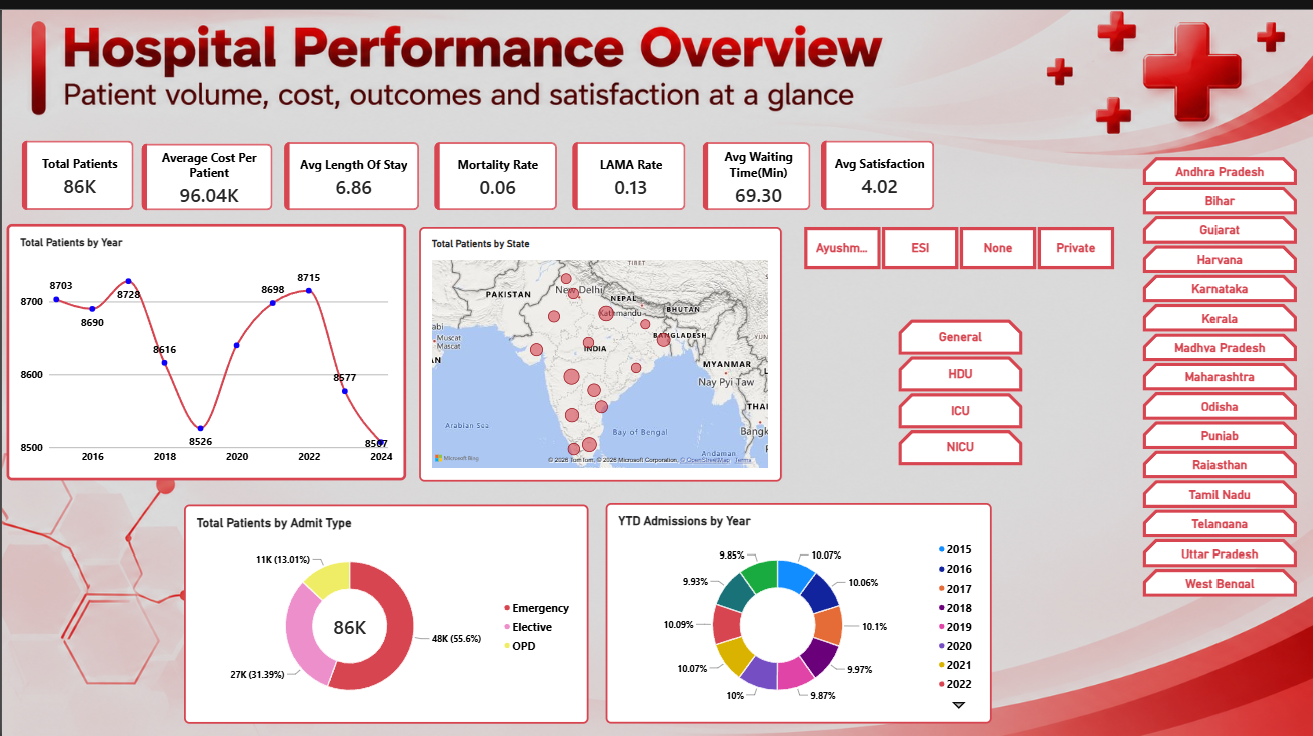

What the dashboard file says about the page in this screenshot:
{"tool":"powerbi","page":{"name":" Overview","canvas":[1920,1080],"ordinal":0},"visuals":[{"type":"cardVisual","fields":{"Data":["HEALTHCARE.Total Patients"]},"box":[28,200,164,102],"z":0},{"type":"cardVisual","fields":{"Data":["HEALTHCARE.Average Cost Per Patient"]},"box":[204,204,192,98],"z":1000},{"type":"cardVisual","fields":{"Data":["HEALTHCARE.Avg Length Of Stay"]},"box":[414,202,198,100],"z":2000},{"type":"cardVisual","fields":{"Data":["HEALTHCARE.Mortality Rate"]},"box":[634,202,180,100],"z":3000},{"type":"cardVisual","fields":{"Data":["HEALTHCARE.LAMA Rate"]},"box":[836,202,166,100],"z":4000},{"type":"cardVisual","fields":{"Data":["HEALTHCARE.Avg Waiting Time"]},"box":[1026,202,158,100],"z":5000},{"type":"cardVisual","fields":{"Data":["HEALTHCARE.Avg Satisfaction"]},"box":[1200,200,166,102],"z":6000},{"type":"lineChart","fields":{"Category":["Date Table.Date.Variation.Date Hierarchy.Year","Date Table.Date.Variation.Date Hierarchy.Quarter","Date Table.Date.Variation.Date Hierarchy.Month","Date Table.Date.Variation.Date Hierarchy.Day"],"Y":["HEALTHCARE.Total Patients"]},"box":[7.1,322.9,585.7,375.7],"z":7000},{"type":"donutChart","fields":{"Category":["HEALTHCARE.Admit Type"],"Y":["HEALTHCARE.Total Patients"]},"box":[267.5,732.5,592.5,320],"z":8000},{"type":"pieChart","fields":{"Series":["Date Table.Year"],"Y":["HEALTHCARE.YTD Admissions"]},"box":[884,730,566,322],"z":9000},{"type":"map","fields":{"Category":["HEALTHCARE.State"],"Size":["HEALTHCARE.Total Patients"]},"box":[611.4,327.1,531.4,372.9],"z":10000},{"type":"advancedSlicerVisual","fields":{"Values":["HEALTHCARE.State"]},"box":[1670,205,225,695],"z":11000},{"type":"advancedSlicerVisual","fields":{"Values":["HEALTHCARE.Ward Type"]},"box":[1312.9,442.9,182.5,255],"z":12000},{"type":"advancedSlicerVisual","fields":{"Values":["HEALTHCARE.Insurance Type"]},"box":[1155.7,327.1,497.1,62.9],"z":13000}]}

Visuals, with their boxes in screenshot pixels (x1, y1, x2, y2), scaled from the page's 1920x1080 canvas onto the 1313x736 screenshot:
cardVisual - HEALTHCARE.Total Patients: bbox=(19, 136, 131, 206)
cardVisual - HEALTHCARE.Average Cost Per Patient: bbox=(140, 139, 271, 206)
cardVisual - HEALTHCARE.Avg Length Of Stay: bbox=(283, 138, 419, 206)
cardVisual - HEALTHCARE.Mortality Rate: bbox=(434, 138, 557, 206)
cardVisual - HEALTHCARE.LAMA Rate: bbox=(572, 138, 685, 206)
cardVisual - HEALTHCARE.Avg Waiting Time: bbox=(702, 138, 810, 206)
cardVisual - HEALTHCARE.Avg Satisfaction: bbox=(821, 136, 934, 206)
lineChart - Date Table.Date.Variation.Date Hierarchy.Year x Date Table.Date.Variation.Date Hierarchy.Quarter: bbox=(5, 220, 405, 476)
donutChart - HEALTHCARE.Admit Type x HEALTHCARE.Total Patients: bbox=(183, 499, 588, 717)
pieChart - Date Table.Year x HEALTHCARE.YTD Admissions: bbox=(605, 497, 992, 717)
map - HEALTHCARE.State x HEALTHCARE.Total Patients: bbox=(418, 223, 782, 477)
advancedSlicerVisual - HEALTHCARE.State: bbox=(1142, 140, 1296, 613)
advancedSlicerVisual - HEALTHCARE.Ward Type: bbox=(898, 302, 1023, 476)
advancedSlicerVisual - HEALTHCARE.Insurance Type: bbox=(790, 223, 1130, 266)
